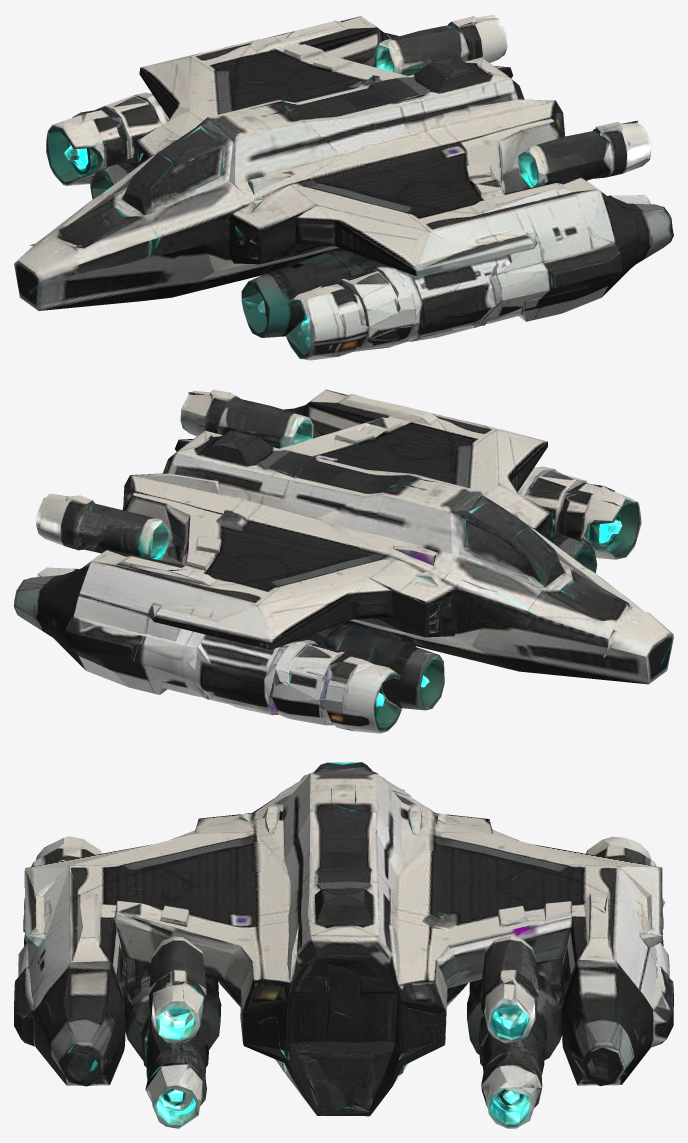
The model's file is vessel-wayfarer.glb.
The picture shows the model from 3 angles, top to bottom: view 1: azimuth 30°, elevation 25°; view 2: azimuth 150°, elevation 25°; view 3: azimuth 270°, elevation 25°; orthographic projection. The views are drawn at different scales.
Size of the model in its own units: 1.9 by 0.5378 by 1.72.
1 material, 1 textured.
